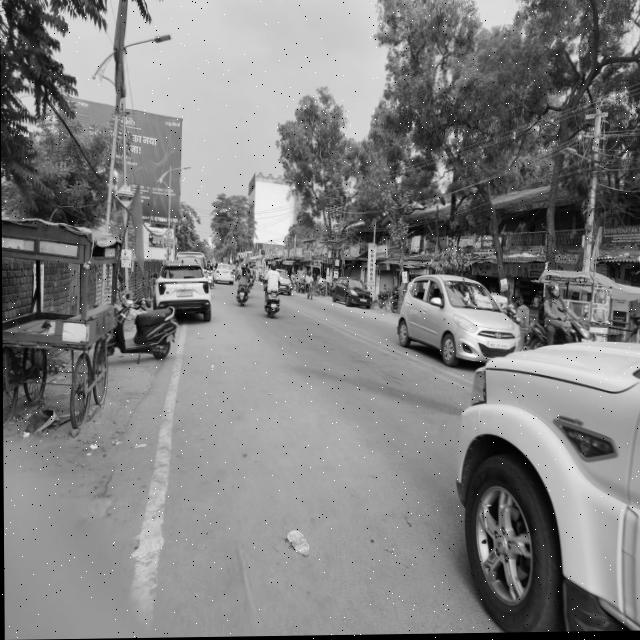bike: (109, 276, 179, 372), (528, 316, 589, 350), (264, 286, 281, 324), (235, 283, 249, 308), (304, 283, 316, 303), (206, 267, 216, 288)
car: (444, 309, 640, 635), (394, 253, 521, 371), (150, 257, 214, 325), (331, 274, 375, 319), (214, 264, 235, 286), (280, 265, 292, 298)
